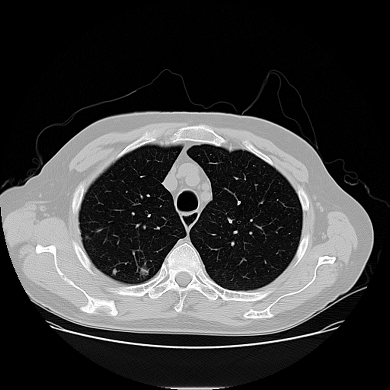nodule: (113, 269, 117, 273)
